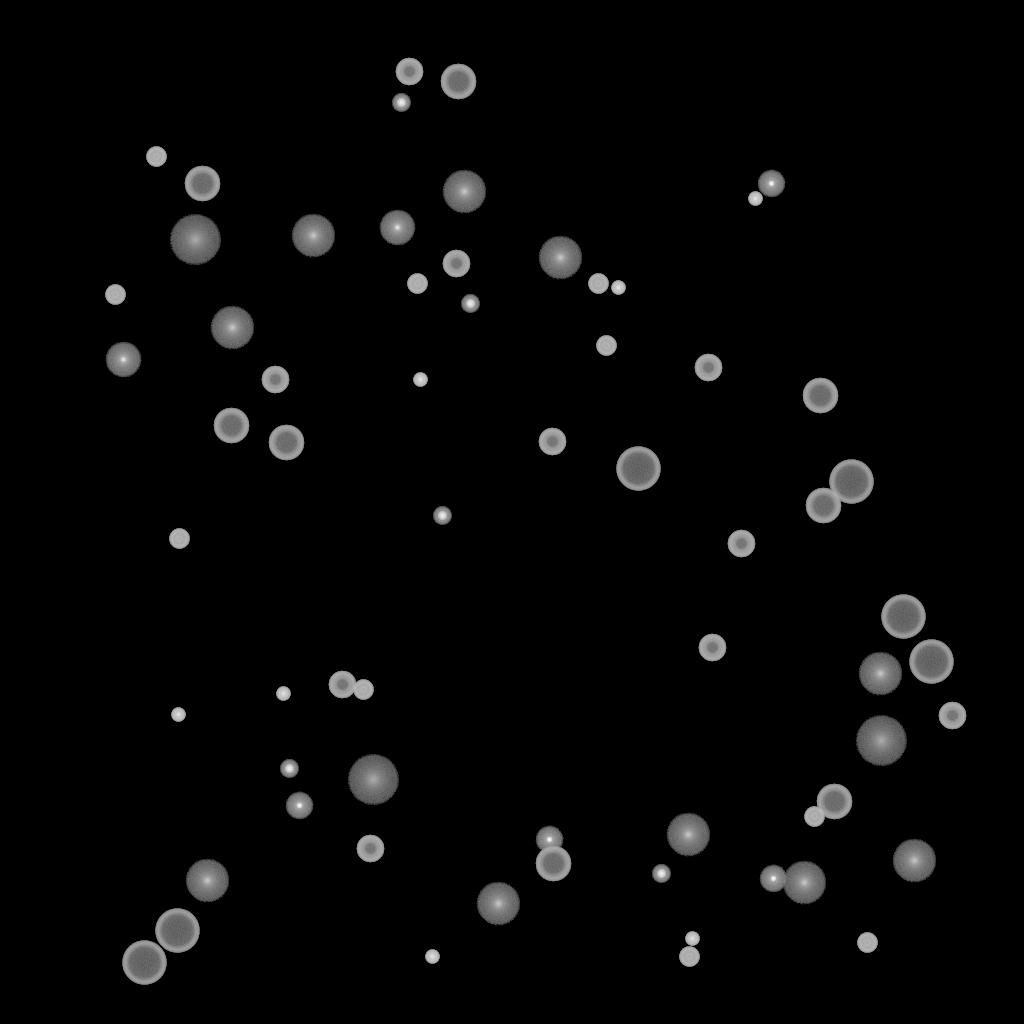depth:-10: (757, 170, 785, 198), (285, 792, 313, 820), (759, 865, 787, 893), (535, 826, 563, 854)
depth:-20: (433, 507, 451, 525), (652, 865, 670, 883), (461, 295, 479, 313), (392, 94, 410, 112), (280, 760, 298, 778)
depth:-30: (171, 708, 185, 722), (425, 950, 439, 964), (685, 932, 699, 946), (748, 192, 762, 206), (413, 373, 427, 387), (276, 687, 290, 701), (611, 281, 625, 295)
depth:-40: (169, 529, 189, 549), (146, 147, 166, 167), (407, 274, 427, 294), (804, 807, 824, 827), (679, 947, 699, 967), (105, 285, 125, 305), (857, 933, 877, 953), (588, 274, 608, 294), (596, 336, 616, 356), (353, 680, 373, 700)
depth:-50: (727, 530, 755, 558), (442, 250, 470, 278), (698, 634, 726, 662), (261, 366, 289, 394), (356, 835, 384, 863), (938, 702, 966, 730), (694, 354, 722, 382), (328, 671, 356, 699), (395, 58, 423, 86), (538, 428, 566, 456)
depth:-60: (440, 64, 476, 100), (535, 846, 571, 882), (184, 166, 220, 202), (805, 488, 841, 524), (268, 425, 304, 461), (802, 378, 838, 414), (213, 408, 249, 444), (816, 784, 852, 820)
depth:-70: (829, 460, 873, 504), (881, 595, 925, 639), (909, 640, 953, 684), (155, 909, 199, 953), (122, 941, 166, 985), (616, 447, 660, 491)
depth:0: (379, 210, 415, 246), (105, 342, 141, 378)
depth:10: (666, 813, 710, 857), (442, 170, 486, 214), (291, 214, 335, 258), (476, 882, 520, 926), (210, 306, 254, 350), (185, 859, 229, 903), (538, 236, 582, 280), (782, 861, 826, 905), (892, 839, 936, 883), (858, 652, 902, 696)
depth:20: (855, 716, 907, 766), (347, 755, 399, 805), (169, 215, 221, 265)
